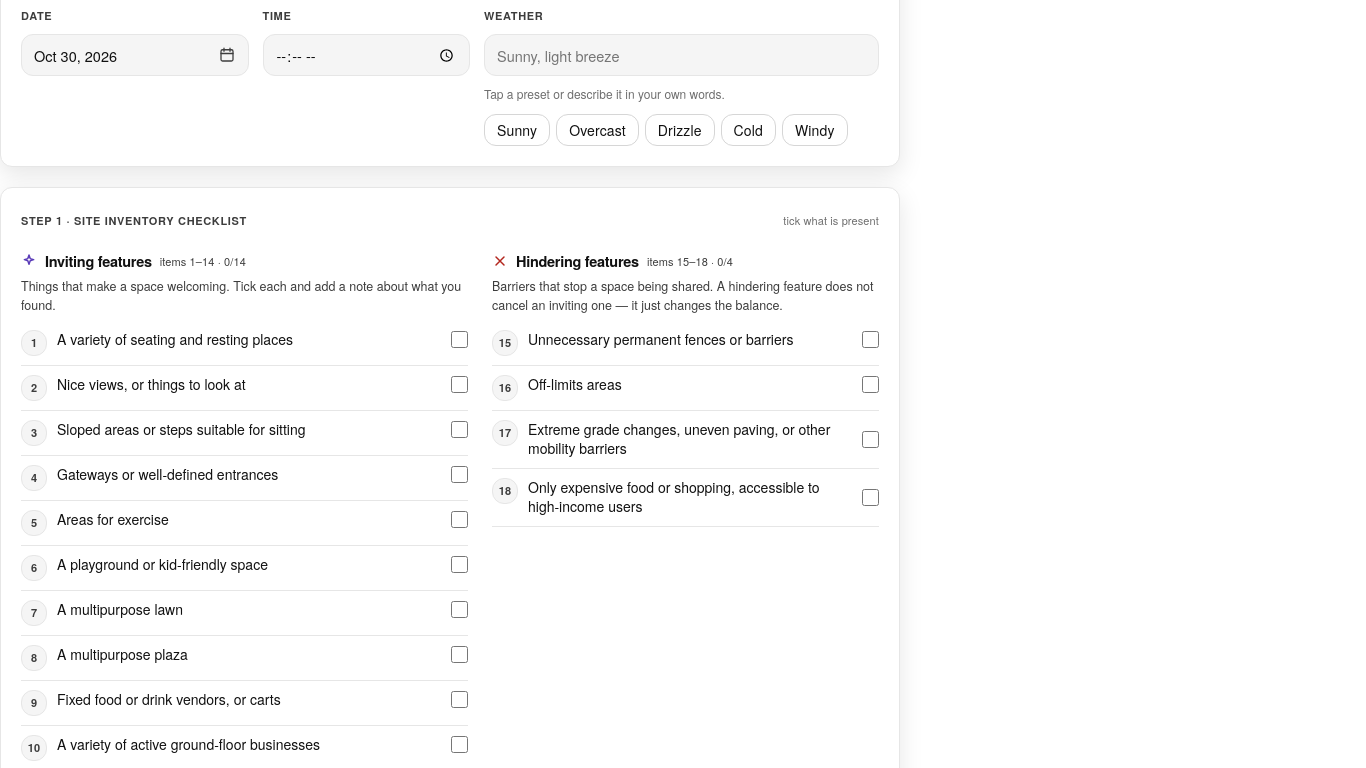
Test case: Social Space Survey › completes step 1 and offers the two optional steps plus the finish
(page scrolled)
Click the checkbox labelled "Unnecessary permanent fences or barriers" at (870, 339), box [862,331,879,348]
(page scrolled)
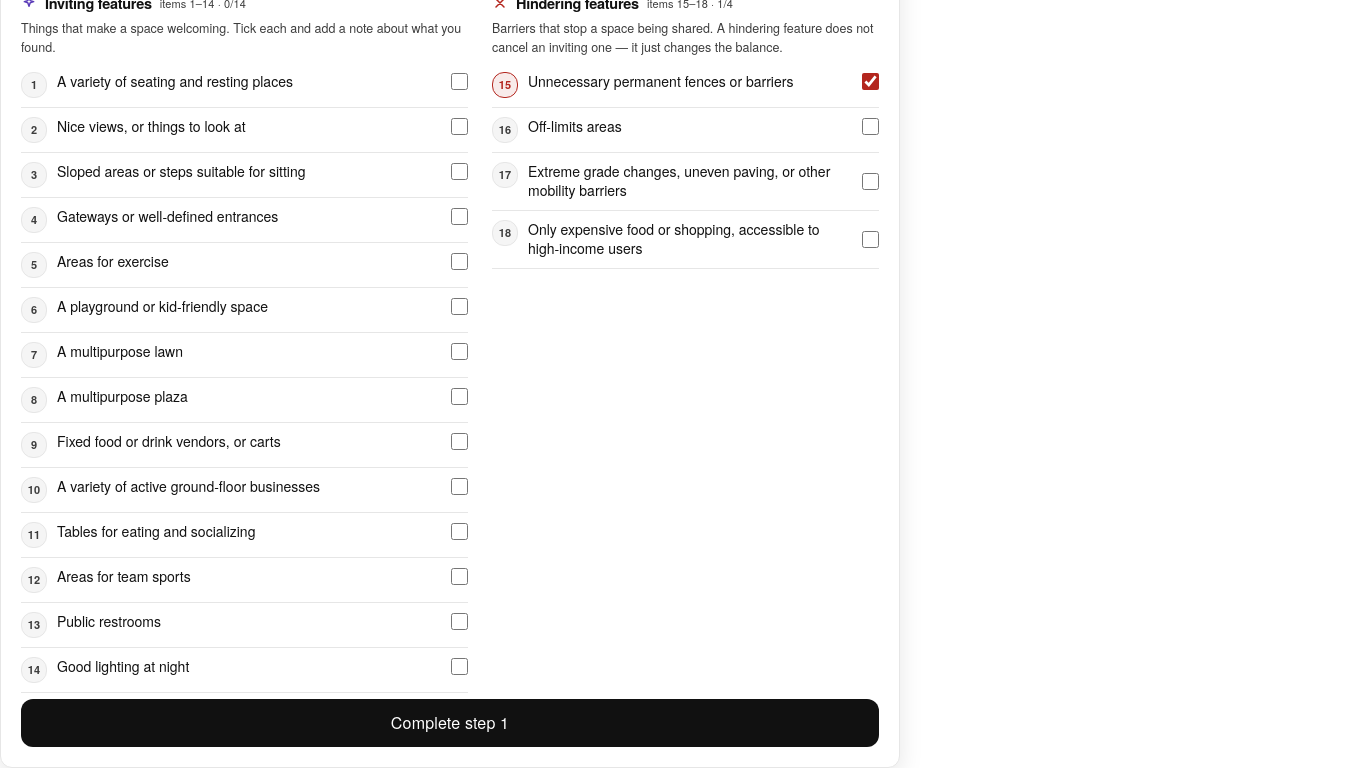
Click the button "Complete step 1" at (450, 723), box [21,699,879,747]
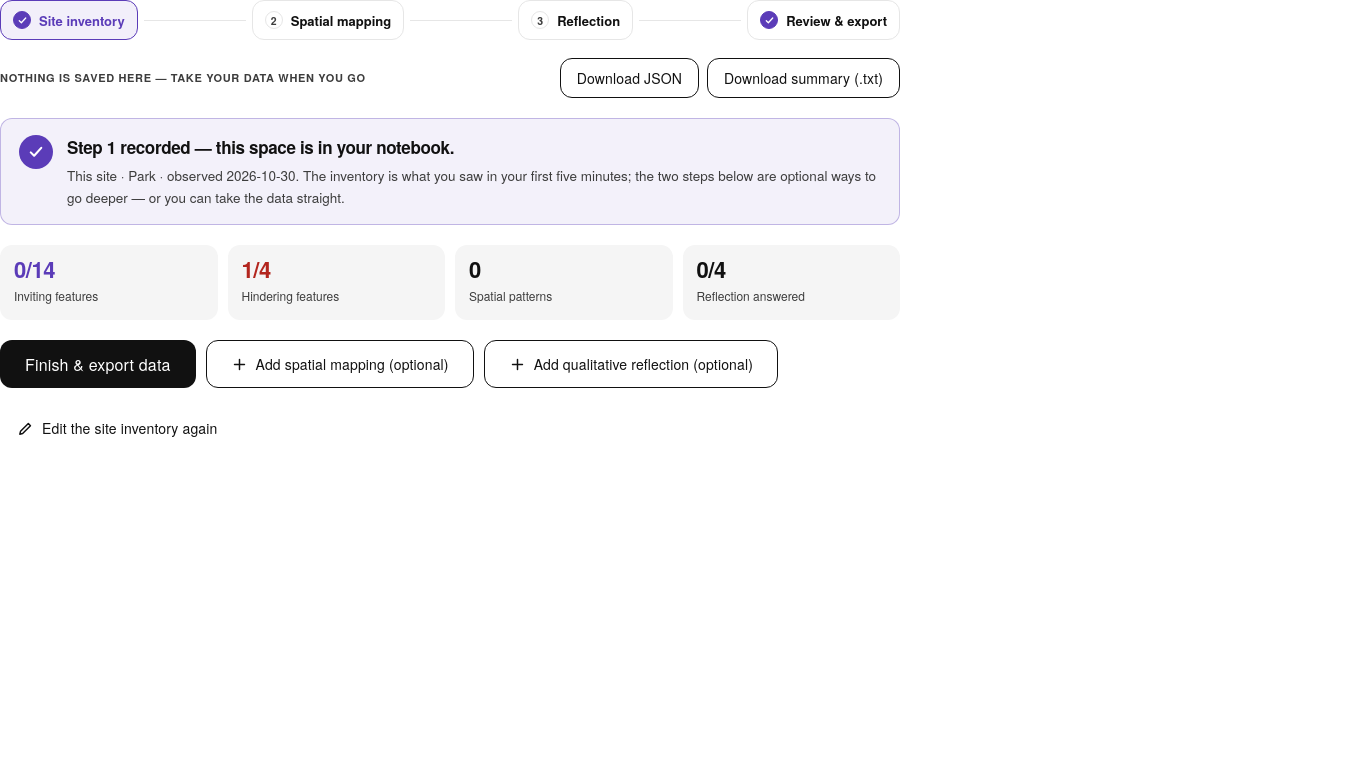
Expected: the text "Step 1 recorded — this space is in your notebook." is shown, [67,135,454,159]
Expected: the button "Finish & export data" is shown, [0,340,196,388]
Expected: the button "Add spatial mapping (optional)" is shown, [206,340,474,388]
